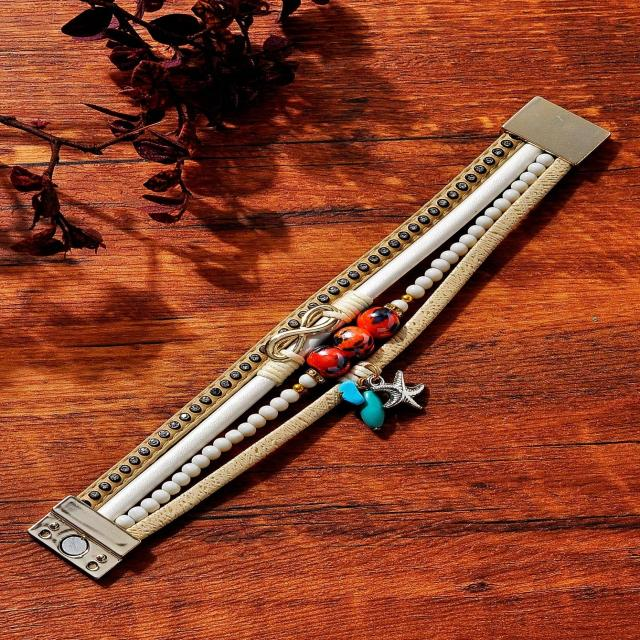bracelet: (29, 40, 640, 589)
